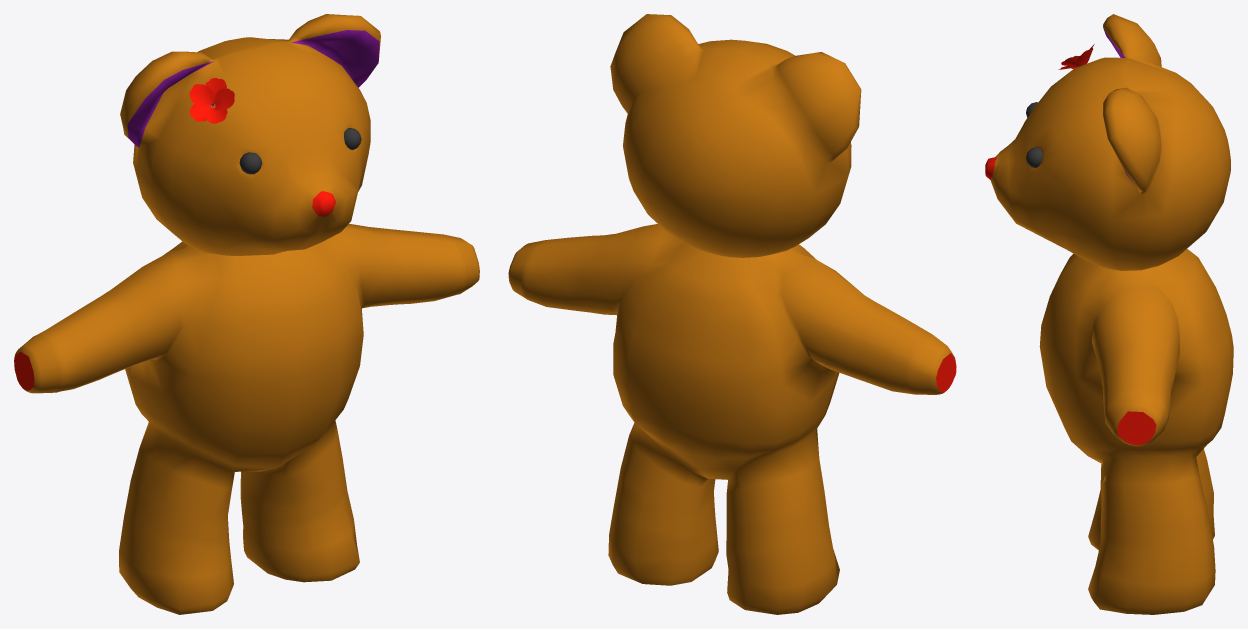
Rendered from Nounours.FBX.
3 views of the same model, side by side, from view 1: azimuth 30°, elevation 25°; view 2: azimuth 150°, elevation 25°; view 3: azimuth 270°, elevation 25° (orthographic). The views are drawn at different scales.
Parts seen in each view (by area): view 1: Corp; view 2: Corp; view 3: Corp.
Part boxes in pixels (x1,y1,x2,y2): Corp: (14, 14, 479, 614); Corp: (508, 14, 956, 614); Corp: (985, 14, 1233, 614).
Size of the model in its own units: 25.74 by 30.56 by 13.33.
